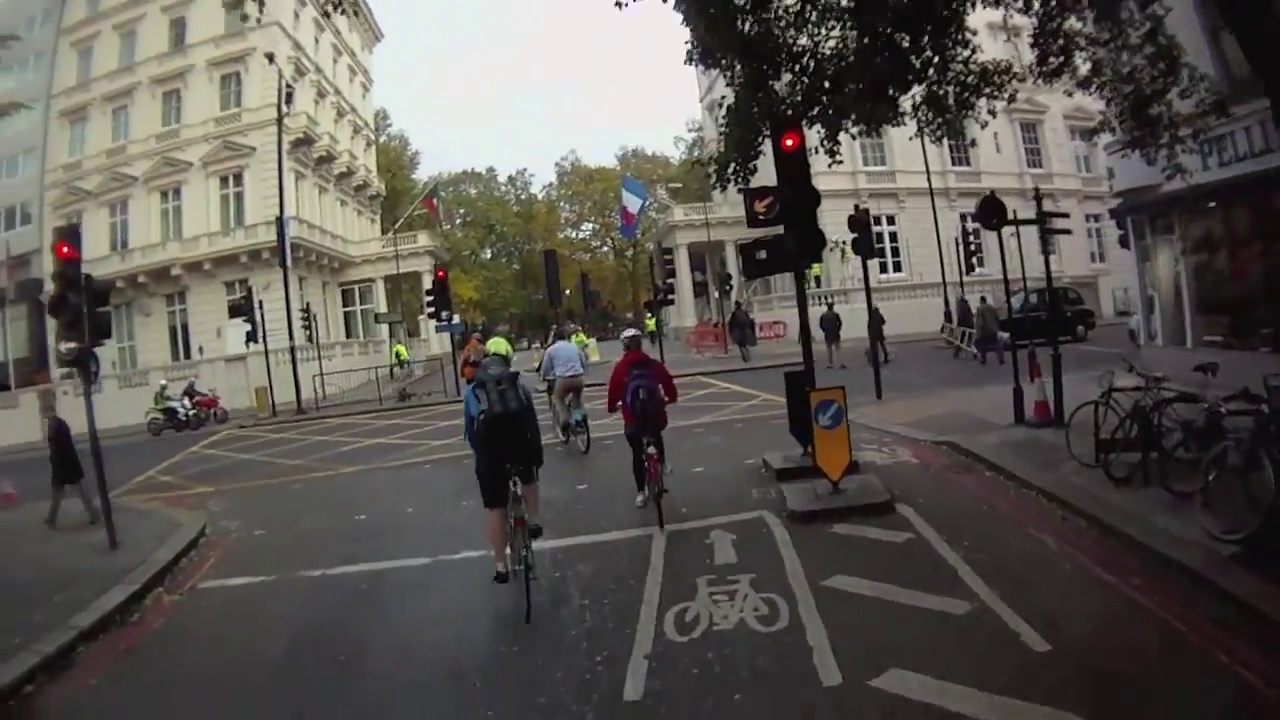cyclist_back: (459, 352, 555, 629), (599, 324, 676, 544), (541, 319, 599, 469)
